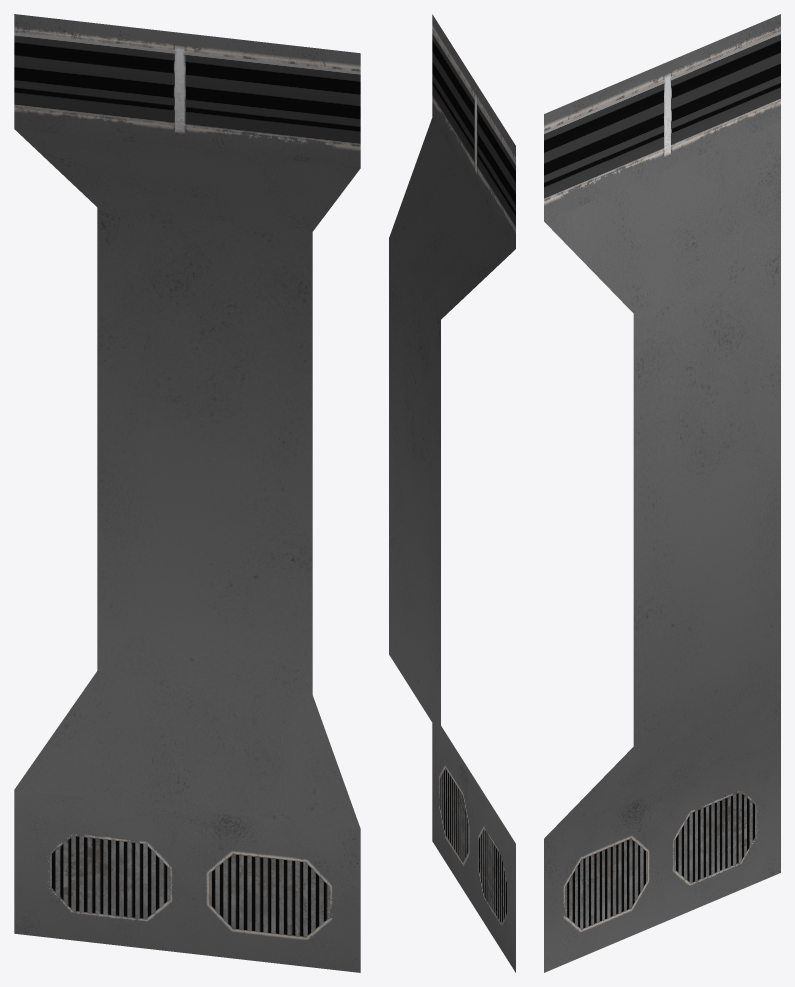
The model's file is Wall_Outercorner_Hall.fbx.
3 renders of one model, left to right at view 1: azimuth 30°, elevation 25°; view 2: azimuth 150°, elevation 25°; view 3: azimuth 270°, elevation 25°, orthographic. The views are drawn at different scales.
Visible parts, largest first — view 1: Wall_Outercorner_Hallway; view 2: Wall_Outercorner_Hallway; view 3: Wall_Outercorner_Hallway.
Boxes of the visible parts, x1,y1,x2,y2 form: Wall_Outercorner_Hallway: (14, 14, 360, 972); Wall_Outercorner_Hallway: (389, 14, 515, 972); Wall_Outercorner_Hallway: (544, 14, 780, 972).
Bounding box in the file's own units: 100 × 400 × 100.
1 material, 1 textured.
